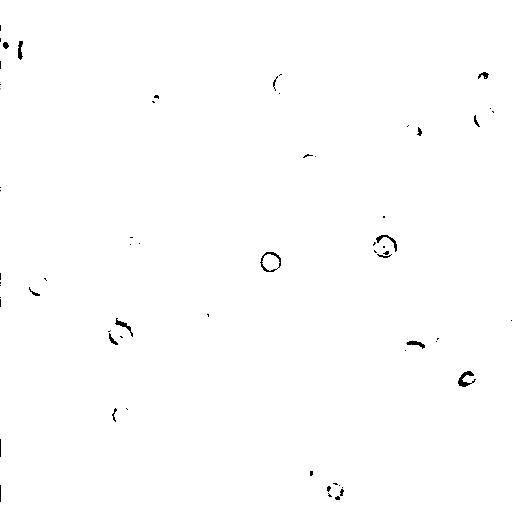micro-algae: (25, 295, 91, 361), (2, 260, 44, 320), (290, 238, 333, 285), (99, 347, 136, 388), (157, 229, 195, 268), (480, 159, 511, 206), (104, 304, 142, 338), (288, 455, 321, 491), (187, 297, 221, 330), (366, 204, 398, 237), (426, 86, 461, 116), (410, 320, 443, 347), (472, 104, 501, 134), (370, 233, 399, 260), (462, 275, 488, 303), (106, 323, 136, 346), (272, 72, 299, 96), (17, 39, 42, 64), (25, 273, 50, 298), (259, 249, 283, 275), (1, 30, 19, 64), (299, 151, 326, 173), (433, 335, 455, 361), (110, 404, 133, 428), (403, 118, 425, 143), (325, 481, 345, 506), (456, 371, 479, 390), (121, 236, 145, 254), (403, 338, 427, 355), (174, 0, 198, 13), (475, 71, 491, 83)
